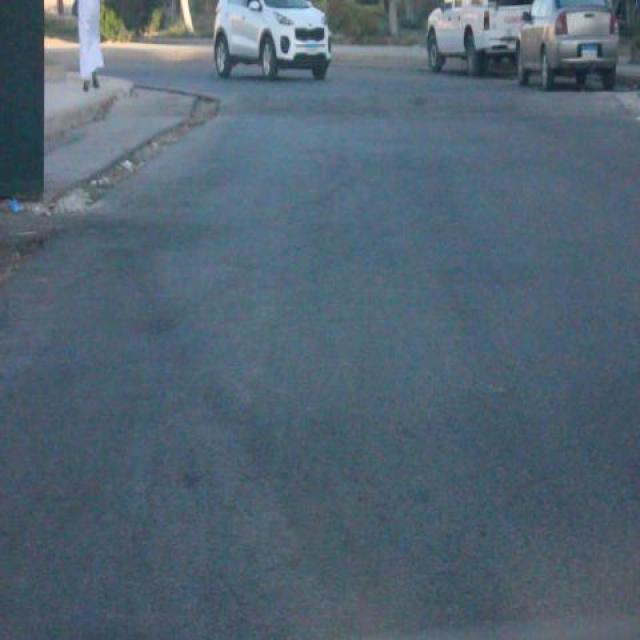Pothole: (101, 128, 182, 183), (160, 91, 225, 142), (49, 171, 118, 216)
Unmarked Bump: (214, 81, 638, 124)
